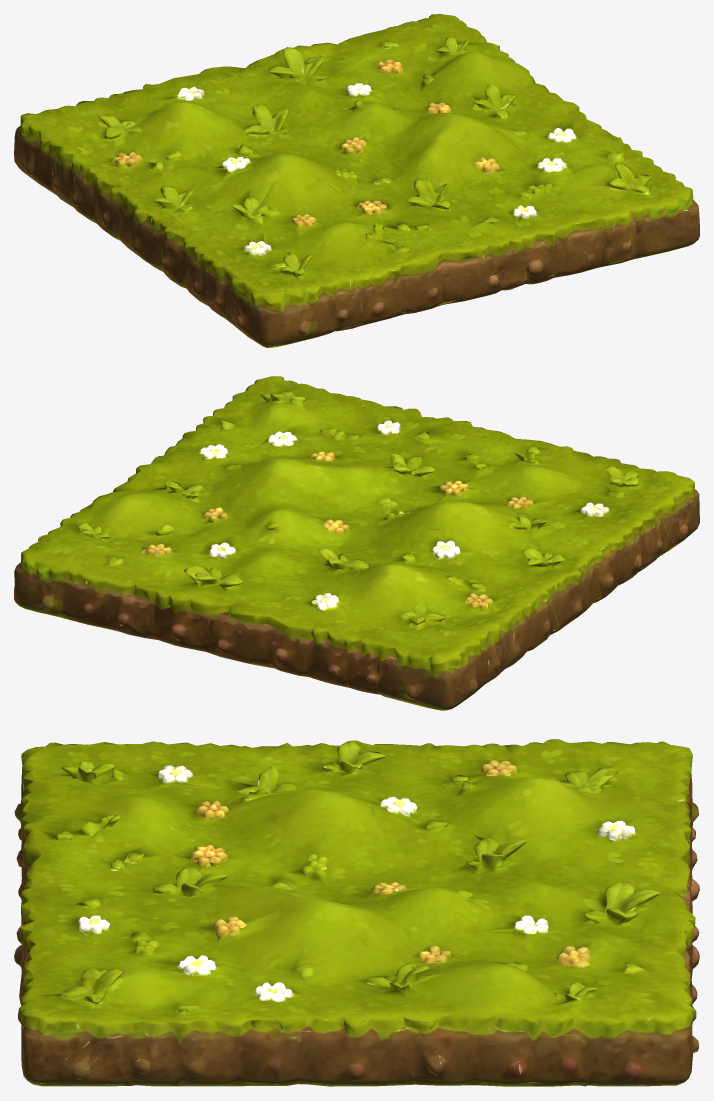
File: grass-patch.glb
3 renders of one model, top to bottom at view 1: azimuth 30°, elevation 25°; view 2: azimuth 150°, elevation 25°; view 3: azimuth 270°, elevation 25°, orthographic. The views are drawn at different scales.
Visible parts, largest first — view 1: Mesh1.0; view 2: Mesh1.0; view 3: Mesh1.0.
Part boxes in pixels (x1=…): Mesh1.0: x1=14, y1=14, x2=699, y2=347; Mesh1.0: x1=14, y1=376, x2=699, y2=710; Mesh1.0: x1=14, y1=739, x2=699, y2=1086.
Size of the model in its own units: 1.9 by 0.3232 by 1.9.
Materials: 1 (1 with a texture image).
